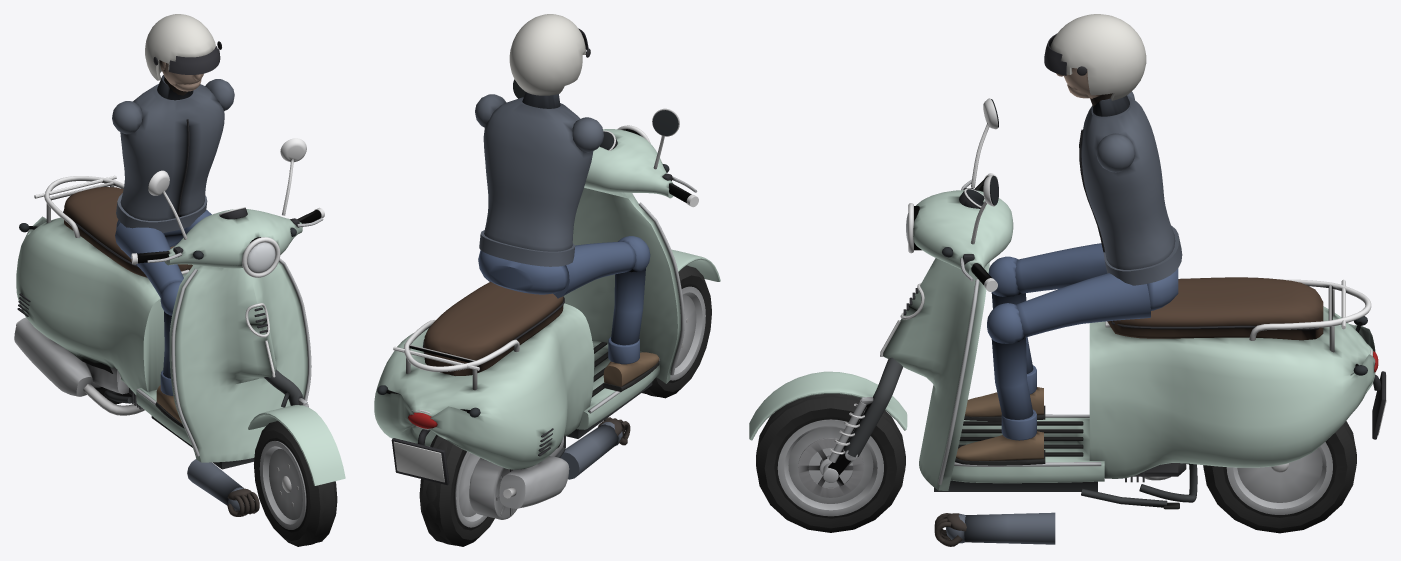
The model's file is scooter.raw.glb.
3 renders of one model, left to right at view 1: azimuth 30°, elevation 25°; view 2: azimuth 150°, elevation 25°; view 3: azimuth 270°, elevation 25°, orthographic. The views are drawn at different scales.
Parts seen in each view (by area): view 1: Body, RiderTorso, Steer, Wheel_F_far, RiderLegs, Wheel_F, ArmU_L, ArmF_L; view 2: Body, RiderTorso, RiderLegs, Steer, Wheel_R_far, Wheel_F_far, ArmU_L, Wheel_R, Wheel_F, ArmF_L; view 3: Body, RiderTorso, RiderLegs, Steer, Wheel_F_far, Wheel_R_far, Wheel_F, ArmU_L, Wheel_R.
Part boxes in pixels (left/top/right/bottom): Body: left=14, top=175, right=311, bottom=469; RiderTorso: left=112, top=14, right=234, bottom=232; Steer: left=131, top=138, right=345, bottom=485; Wheel_F_far: left=254, top=421, right=337, bottom=546; RiderLegs: left=115, top=210, right=211, bottom=428; Wheel_F: left=259, top=420, right=331, bottom=545; ArmU_L: left=187, top=459, right=244, bottom=510; ArmF_L: left=227, top=488, right=259, bottom=516; Body: left=374, top=186, right=684, bottom=519; RiderTorso: left=475, top=14, right=603, bottom=266; RiderLegs: left=478, top=236, right=659, bottom=391; Steer: left=513, top=79, right=720, bottom=281; Wheel_R_far: left=419, top=435, right=494, bottom=546; Wheel_F_far: left=642, top=266, right=711, bottom=398; ArmU_L: left=560, top=422, right=622, bottom=479; Wheel_R: left=426, top=439, right=487, bottom=545; Wheel_F: left=643, top=265, right=705, bottom=396; ArmF_L: left=561, top=417, right=630, bottom=476; Body: left=880, top=258, right=1386, bottom=509; RiderTorso: left=1044, top=14, right=1182, bottom=285; RiderLegs: left=955, top=243, right=1178, bottom=465; Steer: left=749, top=98, right=1013, bottom=482; Wheel_F_far: left=756, top=394, right=905, bottom=532; Wheel_R_far: left=1203, top=421, right=1356, bottom=533; Wheel_F: left=756, top=394, right=905, bottom=518; ArmU_L: left=946, top=512, right=1055, bottom=544; Wheel_R: left=1203, top=421, right=1356, bottom=517.
Size of the model in its own units: 0.788 by 1.77 by 1.95.
